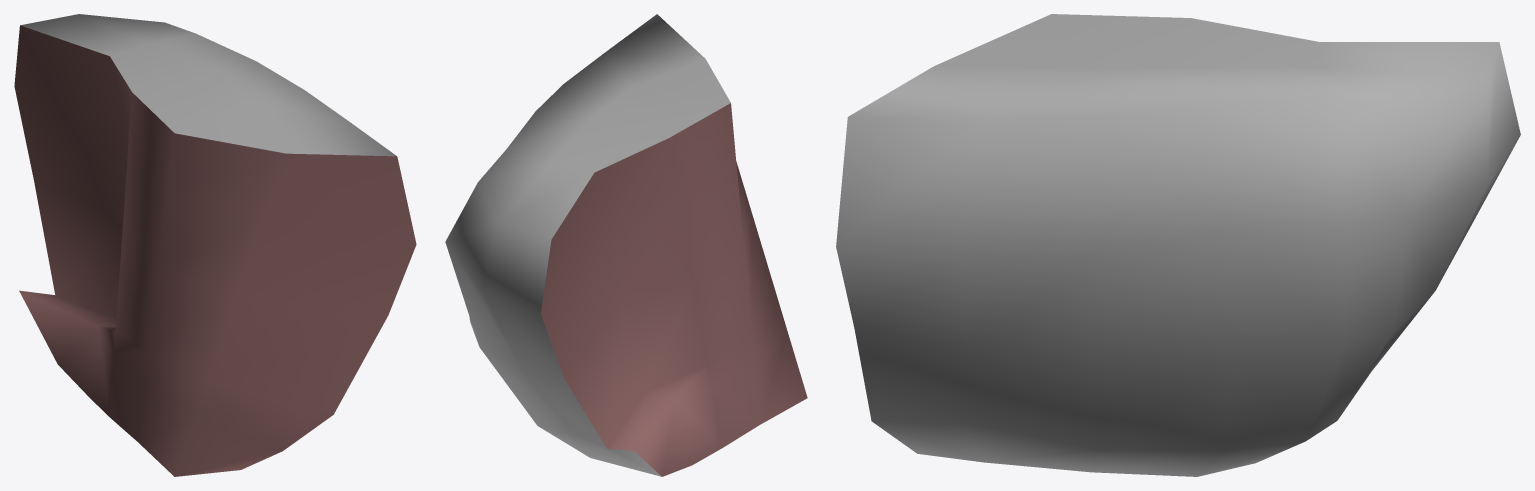
The picture shows the model from 3 angles, left to right: view 1: azimuth 30°, elevation 25°; view 2: azimuth 150°, elevation 25°; view 3: azimuth 270°, elevation 25°; orthographic projection. The views are drawn at different scales.
Parts seen in each view (by area): view 1: p3_1; view 2: p3_1; view 3: p3_1.
Part boxes in pixels (x1,y1,x2,y2): p3_1: (14, 14, 416, 476); p3_1: (445, 14, 807, 476); p3_1: (836, 14, 1520, 476).
Size of the model in its own units: 4.33 by 6.22 by 9.22.
